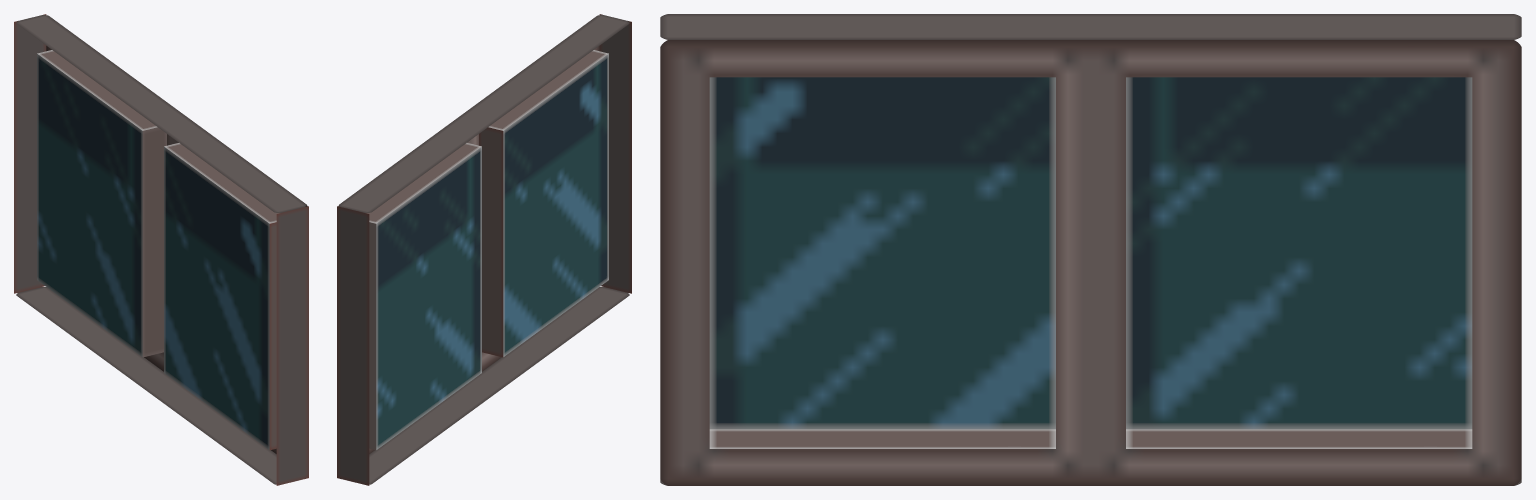
Rendered from WindowBrown2SmallLarge.fbx.
3 views of the same model, side by side, from view 1: azimuth 30°, elevation 25°; view 2: azimuth 150°, elevation 25°; view 3: azimuth 270°, elevation 25° (orthographic). The views are drawn at different scales.
Parts seen in each view (by area): view 1: plane; view 2: plane; view 3: plane.
Boxes of the visible parts, x1=… form: plane: x1=14, y1=14, x2=308, y2=485; plane: x1=337, y1=14, x2=631, y2=485; plane: x1=660, y1=14, x2=1521, y2=485.
Size of the model in its own units: 6.25 by 50 by 87.5.
Materials: 1 (1 with a texture image).
